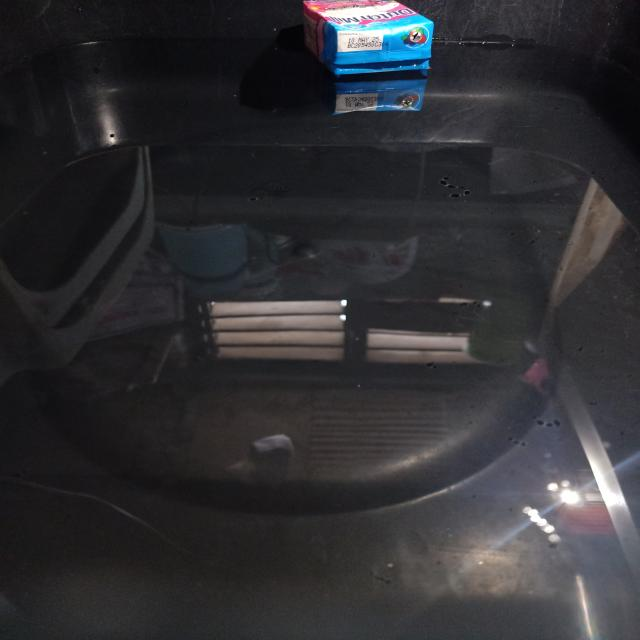Cardboard Box: (304, 0, 434, 74)
